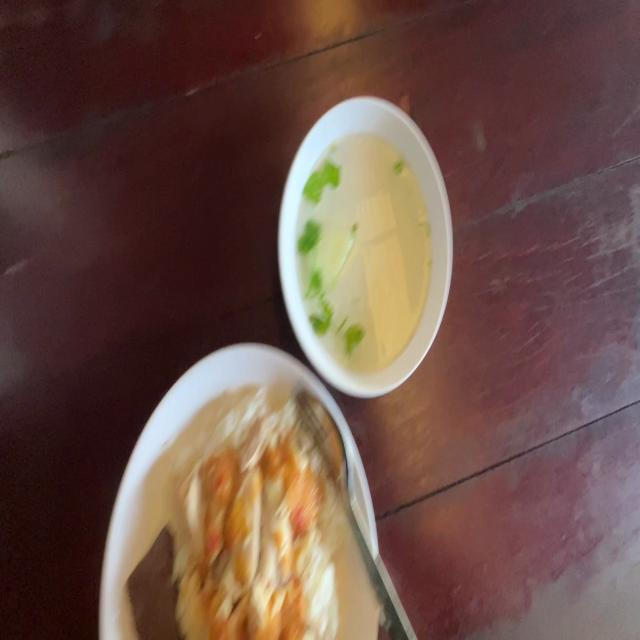chicken_rice: (188, 437, 310, 630)
noodle: (124, 520, 182, 634)
